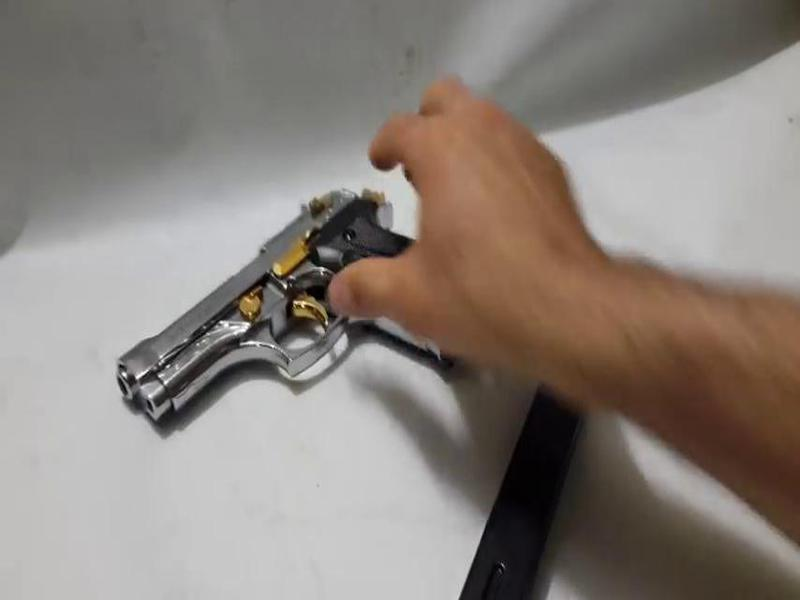Pistola: (117, 180, 477, 431)
